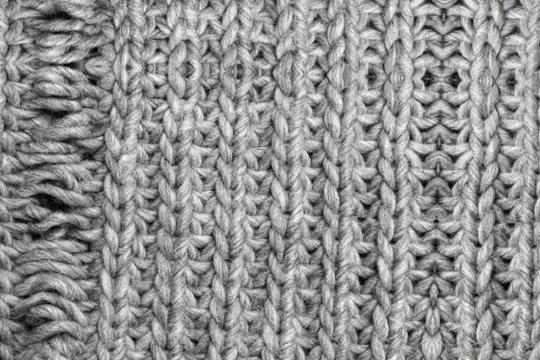slub: (11, 0, 106, 360)
